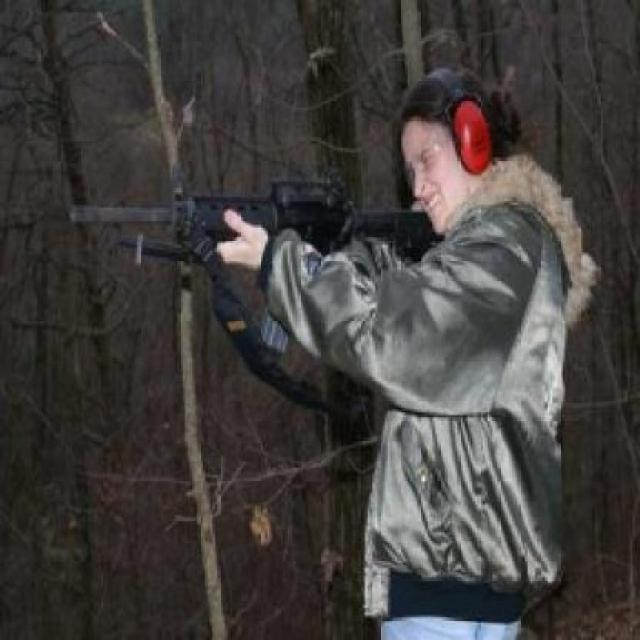Rifle: (71, 180, 433, 265)
